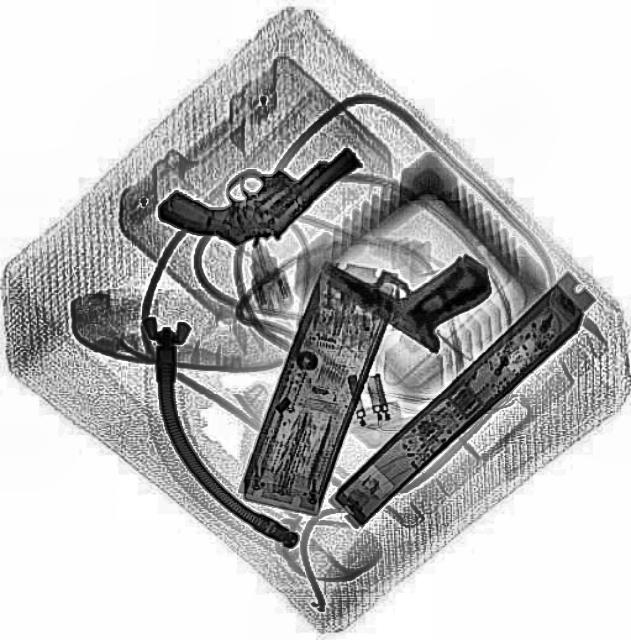Gun: (154, 92, 360, 278), (314, 192, 502, 358)
